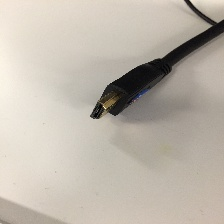hdmi_male: (82, 58, 175, 120)
